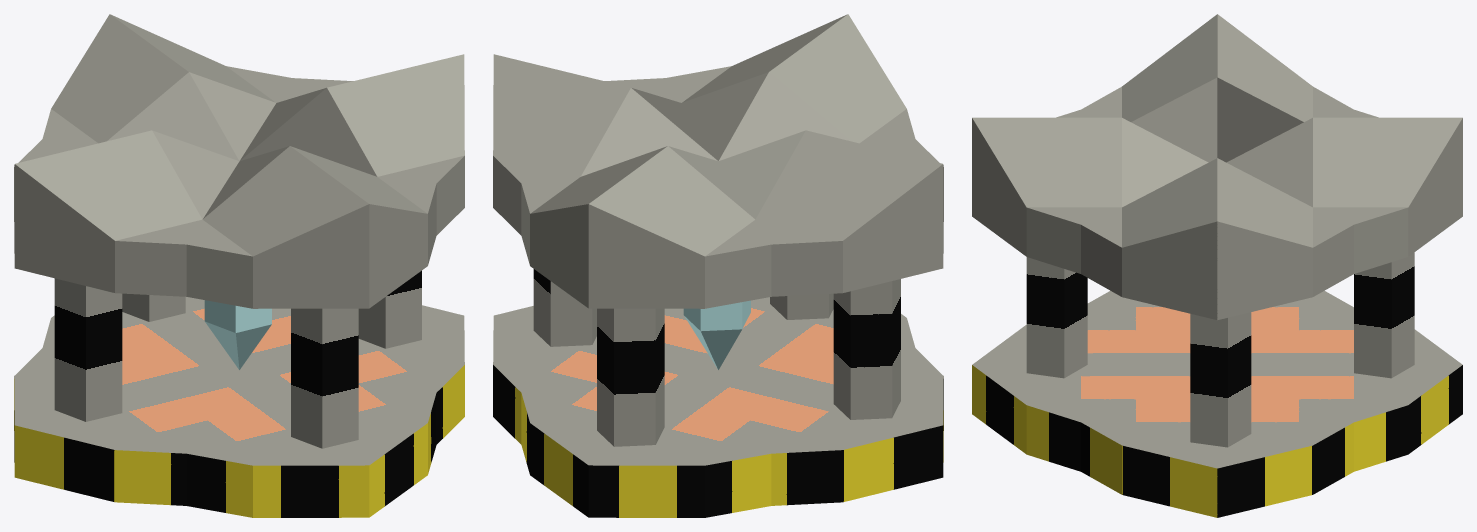
File: charge.gltf
3 renders of one model, left to right at view 1: azimuth 30°, elevation 25°; view 2: azimuth 150°, elevation 25°; view 3: azimuth 270°, elevation 25°, orthographic. The views are drawn at different scales.
Visible parts, largest first — view 1: cuboid; view 2: cuboid; view 3: cuboid.
Boxes of the visible parts, x1=… form: cuboid: x1=14, y1=14, x2=464, y2=517; cuboid: x1=493, y1=14, x2=943, y2=517; cuboid: x1=972, y1=14, x2=1462, y2=517.
Bounding box in the file's own units: 0.5625 × 0.375 × 0.5625.
Materials: 1 (1 with a texture image).
